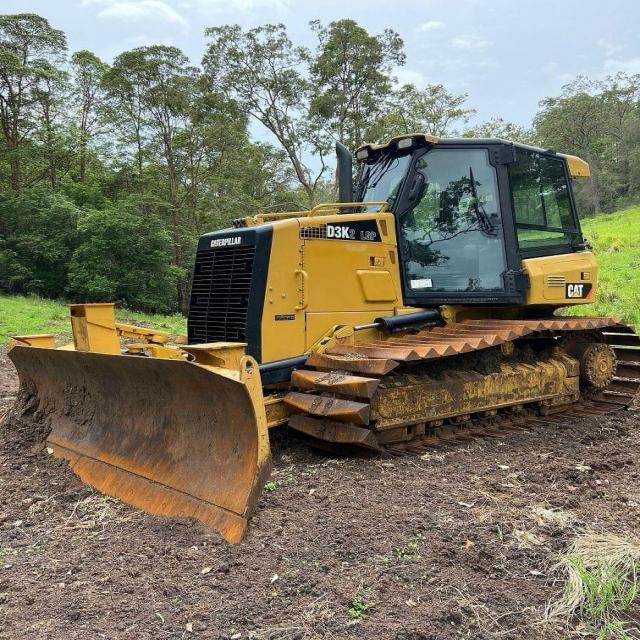Bulldozer: (11, 112, 639, 548)
